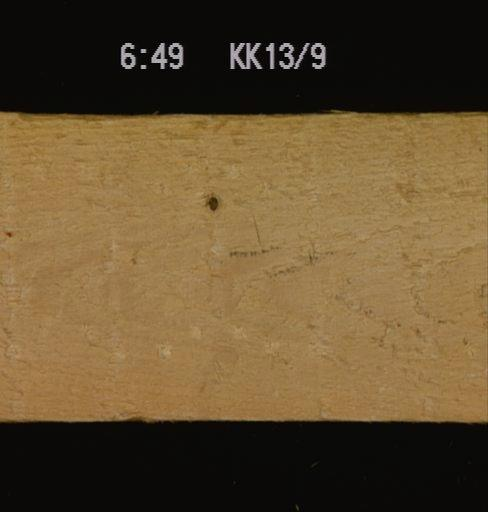dry_knot: (204, 191, 219, 213)
